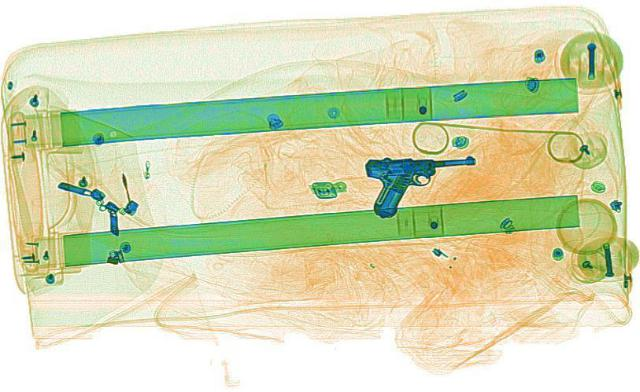Gun: (360, 156, 476, 216)
